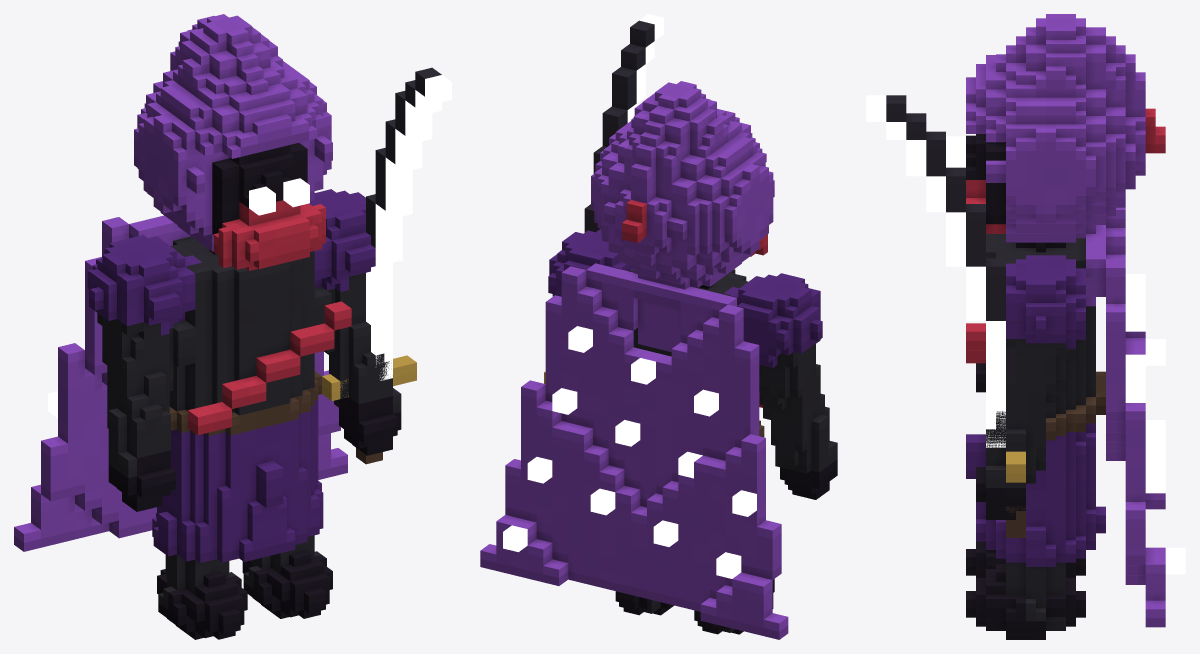
Rendered from u_lame__oracle.glb.
3 renders of one model, left to right at view 1: azimuth 30°, elevation 25°; view 2: azimuth 150°, elevation 25°; view 3: azimuth 270°, elevation 25°, orthographic. The views are drawn at different scales.
Visible parts, largest first — view 1: lame_body, lame_weaponglow, lame_weapon, lame_glow; view 2: lame_body, lame_glow, lame_weapon, lame_weaponglow; view 3: lame_body, lame_weapon, lame_weaponglow, lame_glow.
Boxes of the visible parts, <box> form: lame_body: <box>14,14,401,639</box>; lame_weaponglow: <box>366,75,451,380</box>; lame_weapon: <box>322,67,441,464</box>; lame_glow: <box>48,178,309,418</box>; lame_body: <box>480,81,837,639</box>; lame_glow: <box>503,326,756,578</box>; lame_weapon: <box>544,20,654,383</box>; lame_weaponglow: <box>627,14,663,122</box>; lame_body: <box>966,14,1165,639</box>; lame_weapon: <box>886,95,1025,537</box>; lame_weaponglow: <box>866,95,1005,447</box>; lame_glow: <box>946,136,1185,574</box>.
Size of the model in its own units: 0.95 by 1.62 by 0.8.
